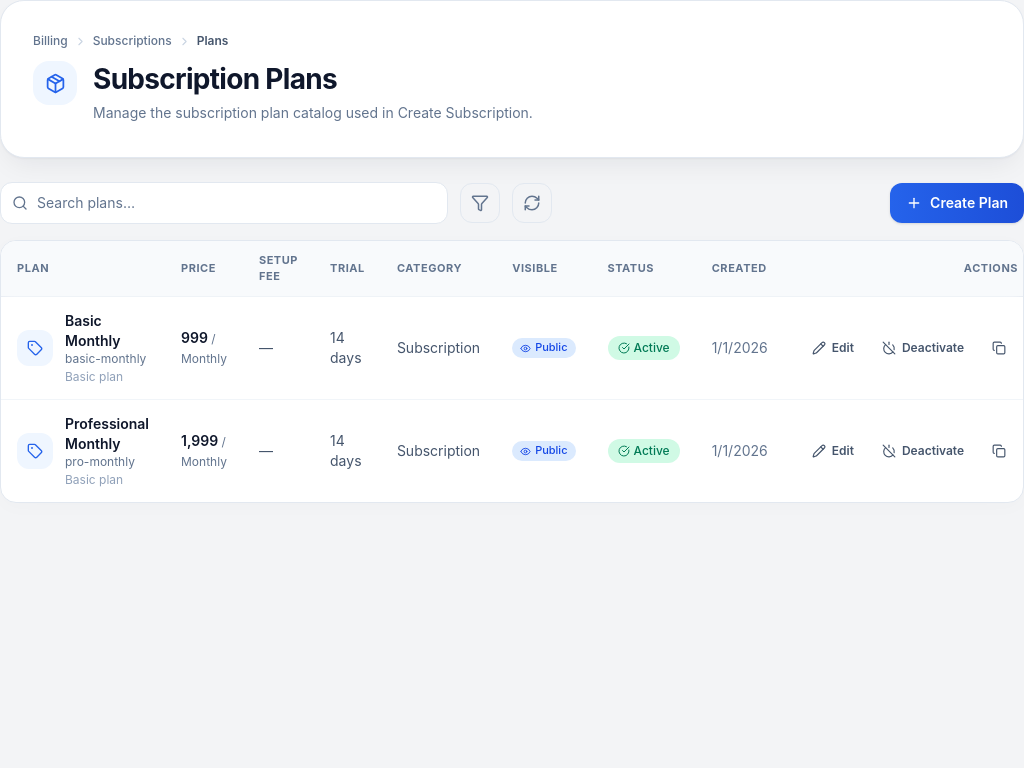
it: SubscriptionPlansPage › deactivates a plan via the row action
Expected: the text "Basic Monthly" is shown, [65,312,121,350]
Click the button with aria-label "deactivate basic monthly" at {"x": 923, "y": 348}, box [870,334,976,362]
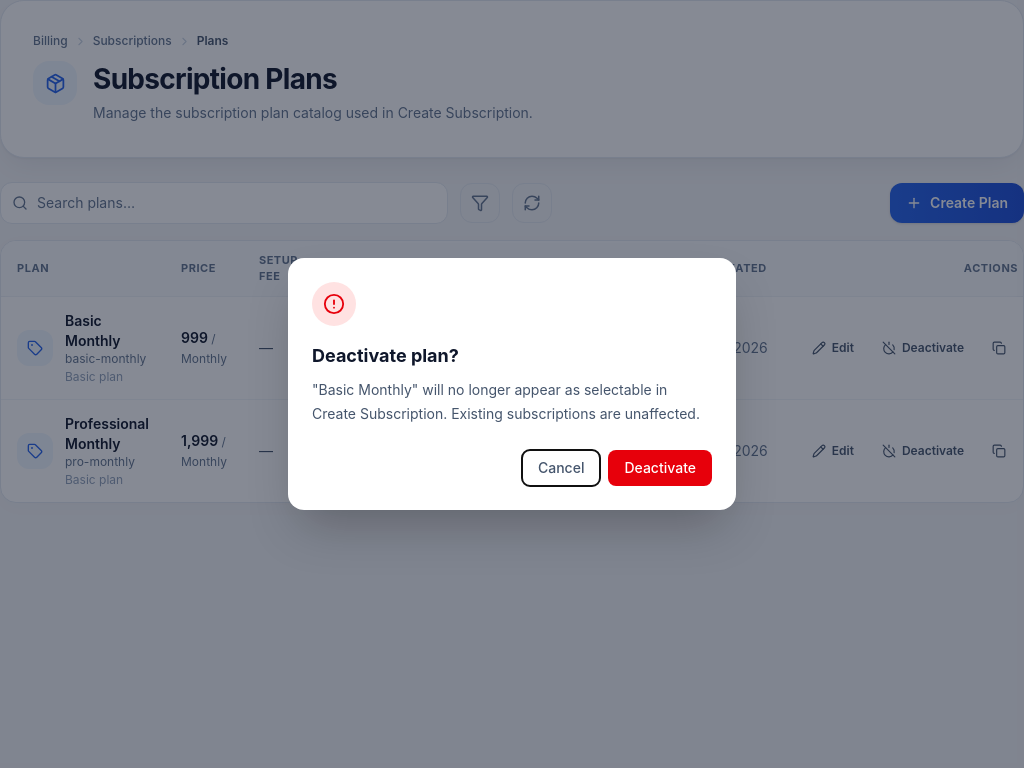
Now the heading "Deactivate plan?" is shown, box [312,345,459,366]
Click the button "Deactivate" at {"x": 660, "y": 468}, box [608,450,712,486]
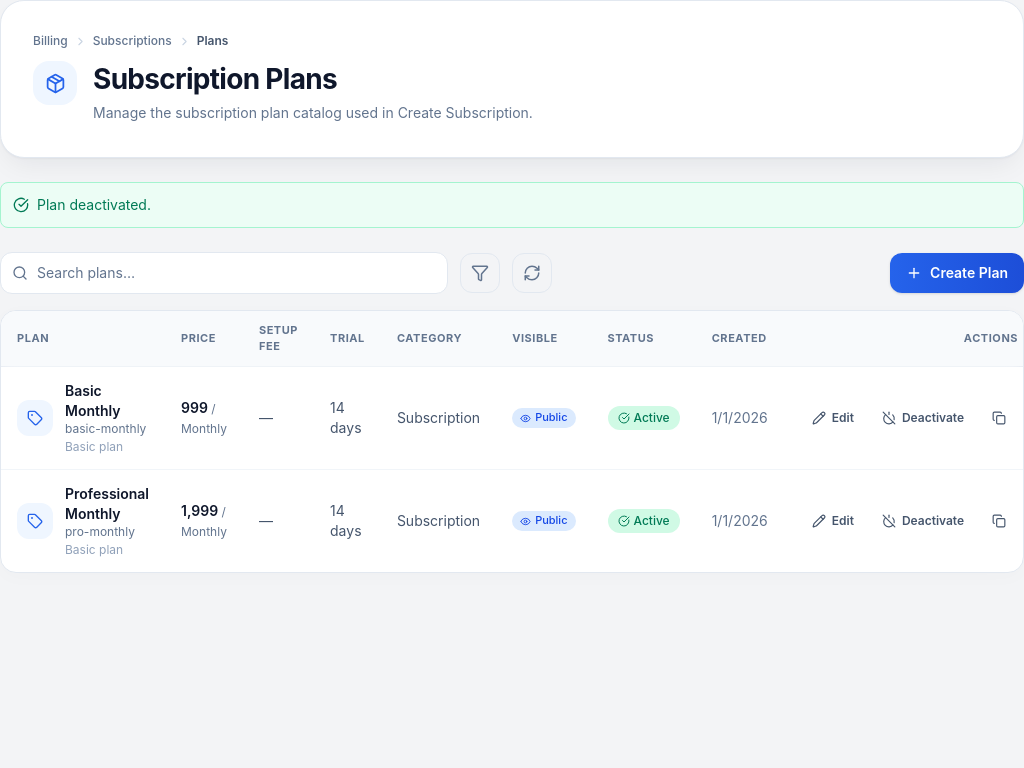
Now the text "Plan deactivated." is shown, box [37,195,151,215]
